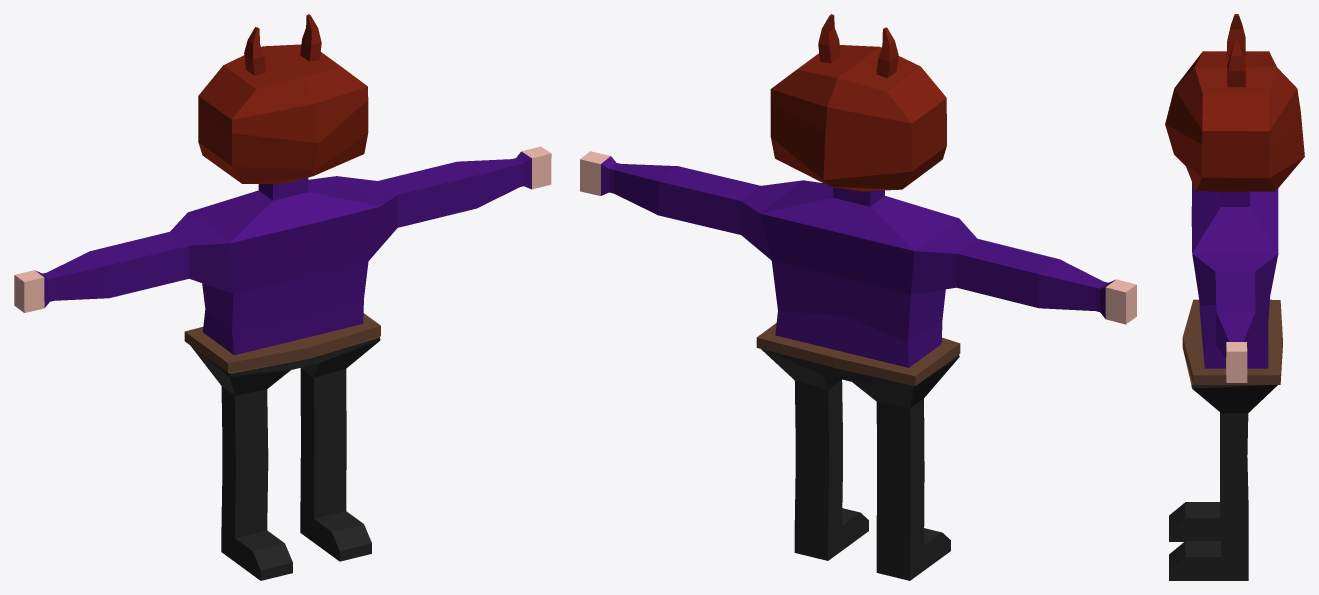
File: dancing.fbx
3 renders of one model, left to right at view 1: azimuth 30°, elevation 25°; view 2: azimuth 150°, elevation 25°; view 3: azimuth 270°, elevation 25°, orthographic. The views are drawn at different scales.
Visible parts, largest first — view 1: Cube; view 2: Cube; view 3: Cube.
Part boxes in pixels (box(x1,y1,x2,y2)): Cube: box(14, 14, 551, 580); Cube: box(580, 14, 1136, 580); Cube: box(1165, 14, 1304, 580).
Bounding box in the file's own units: 278 × 263 × 63.25.
1 material, 1 textured.
